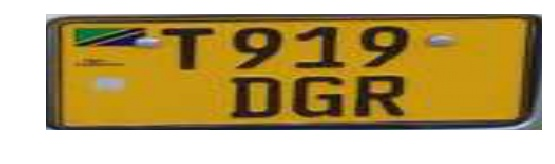T: (159, 24, 221, 72)
